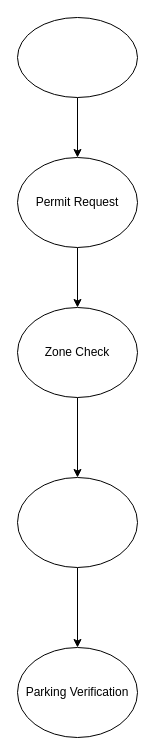
This 155x755 diagram has some shape labels left out. The box of each missing label's shape, as (x1, y1, x2, y2) in pixels:
Permit Approval: (16, 476, 138, 568)
Vehicle Registrration: (16, 16, 138, 98)
